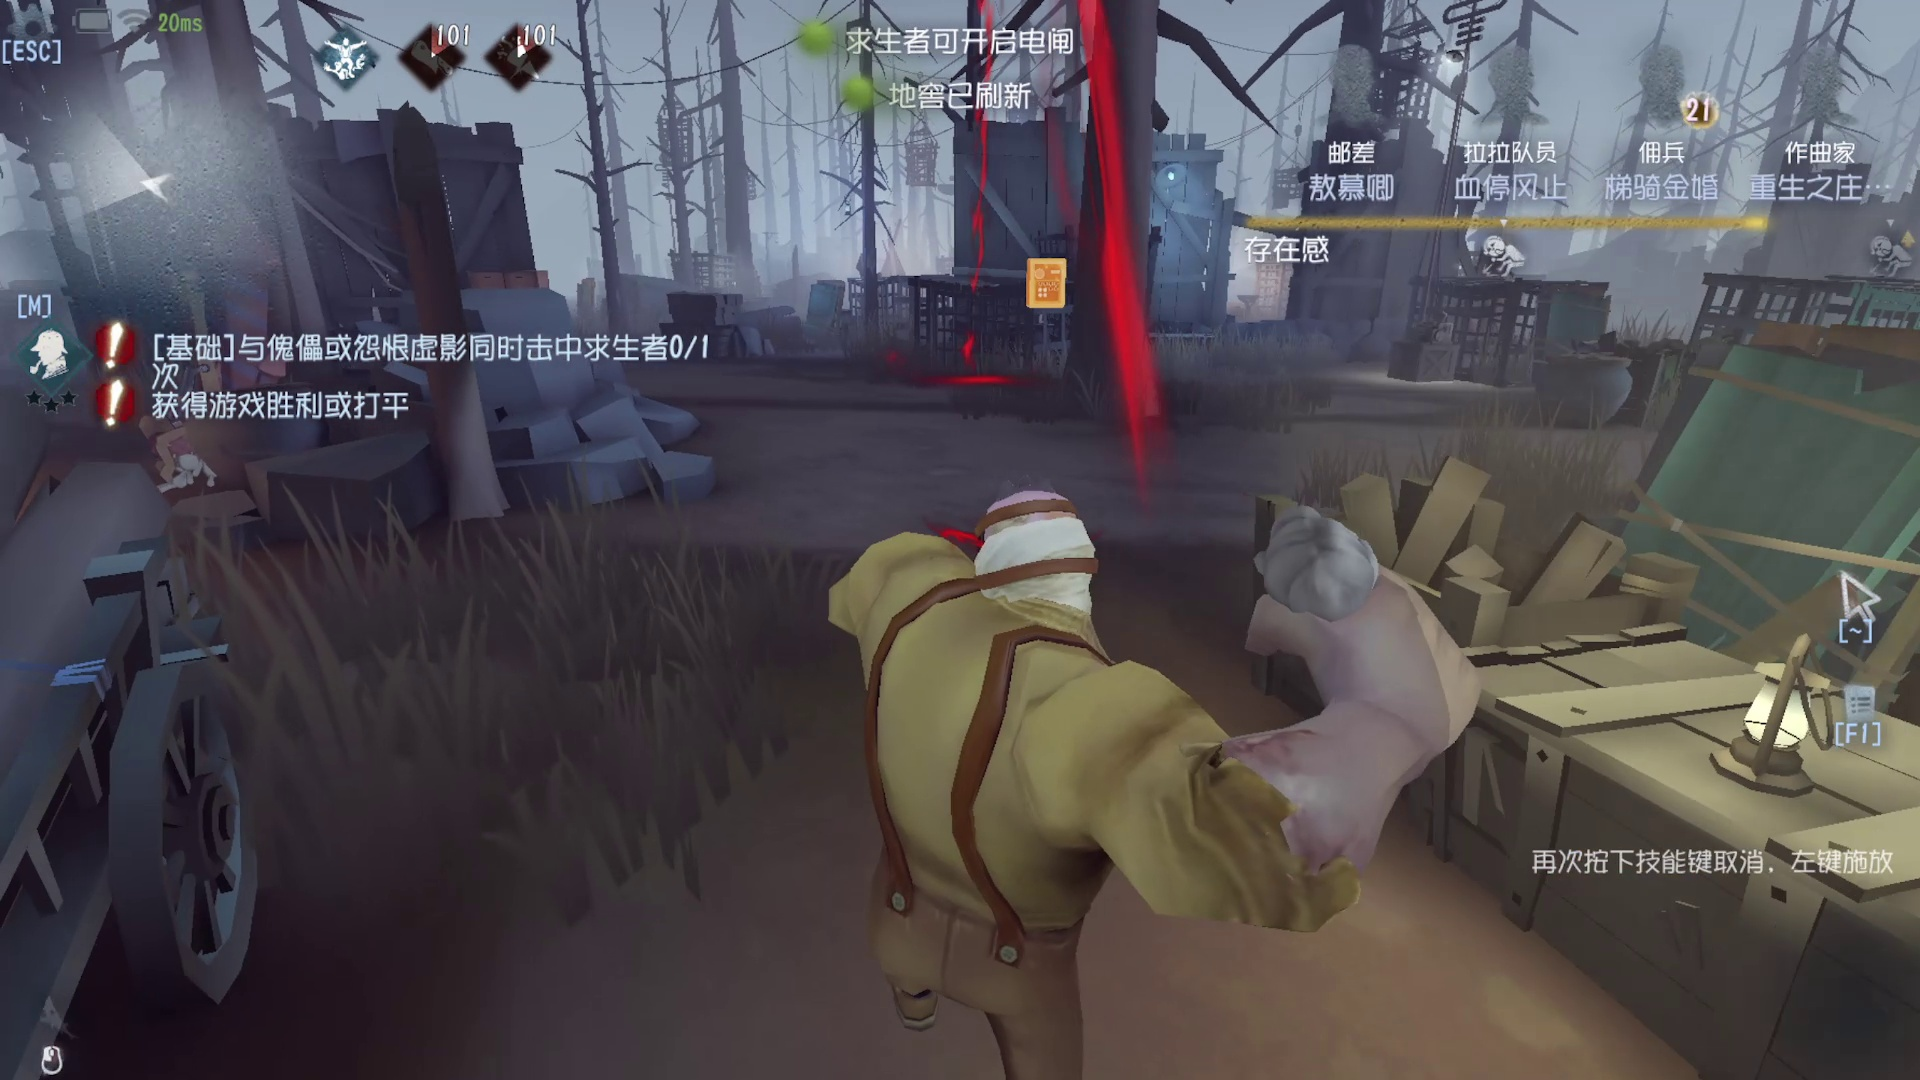木板: (1625, 301, 1892, 657)
狂欢之椅: (793, 258, 836, 345)
设置: (1, 1, 80, 69)
